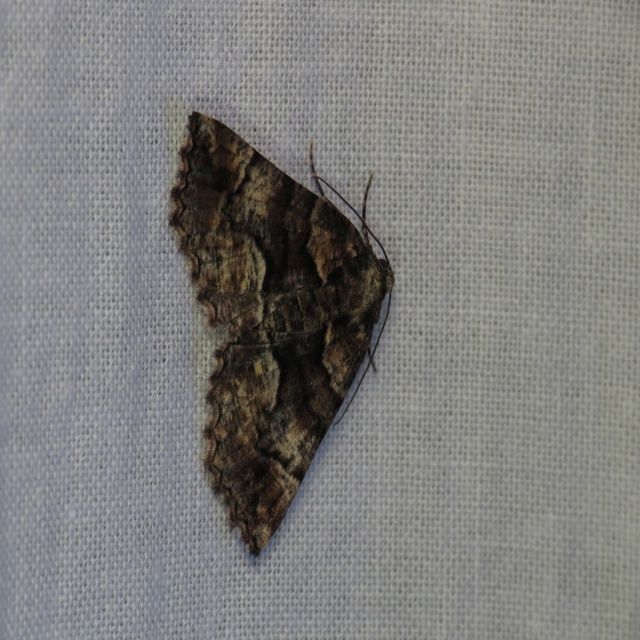Moths and butterflies: (167, 108, 397, 558)
